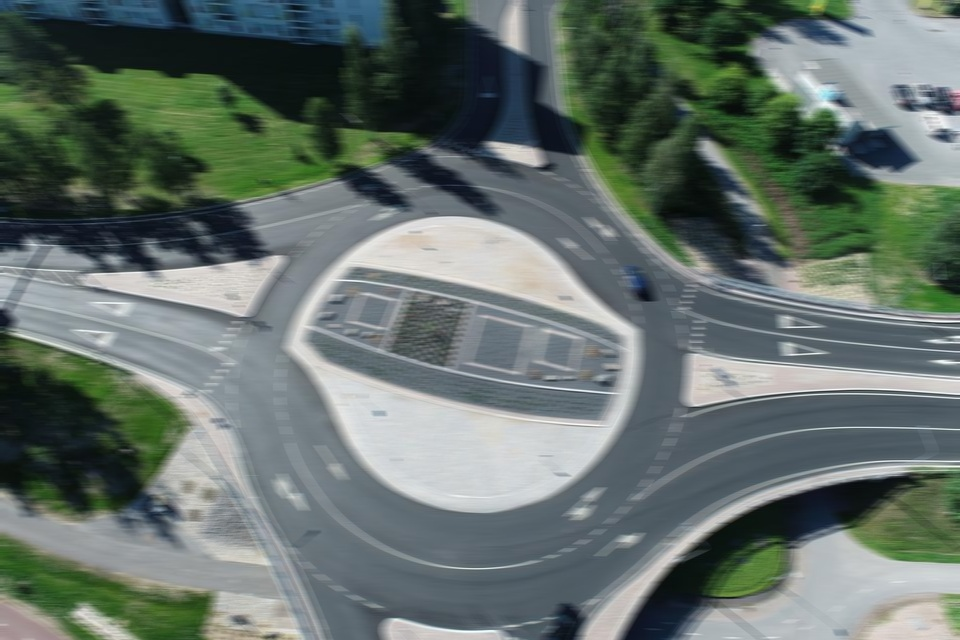roundabout: (194, 122, 705, 640)
